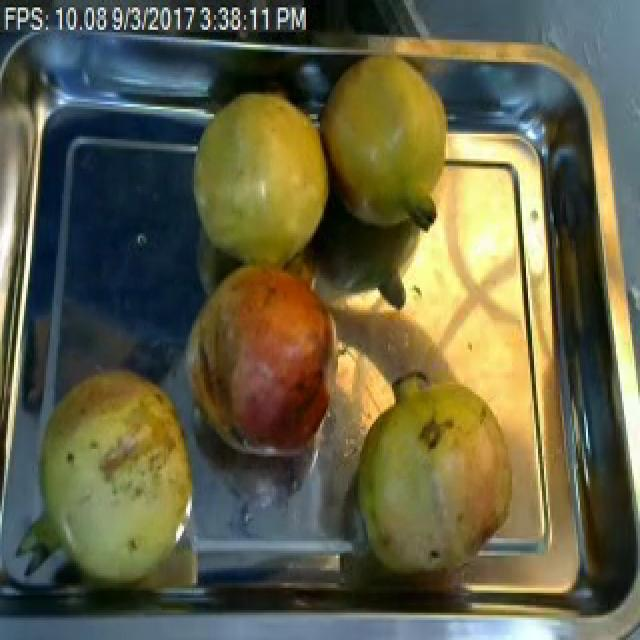fruit: (342, 358, 530, 596), (184, 248, 356, 469), (308, 47, 462, 246), (184, 82, 336, 280), (38, 357, 194, 509)
